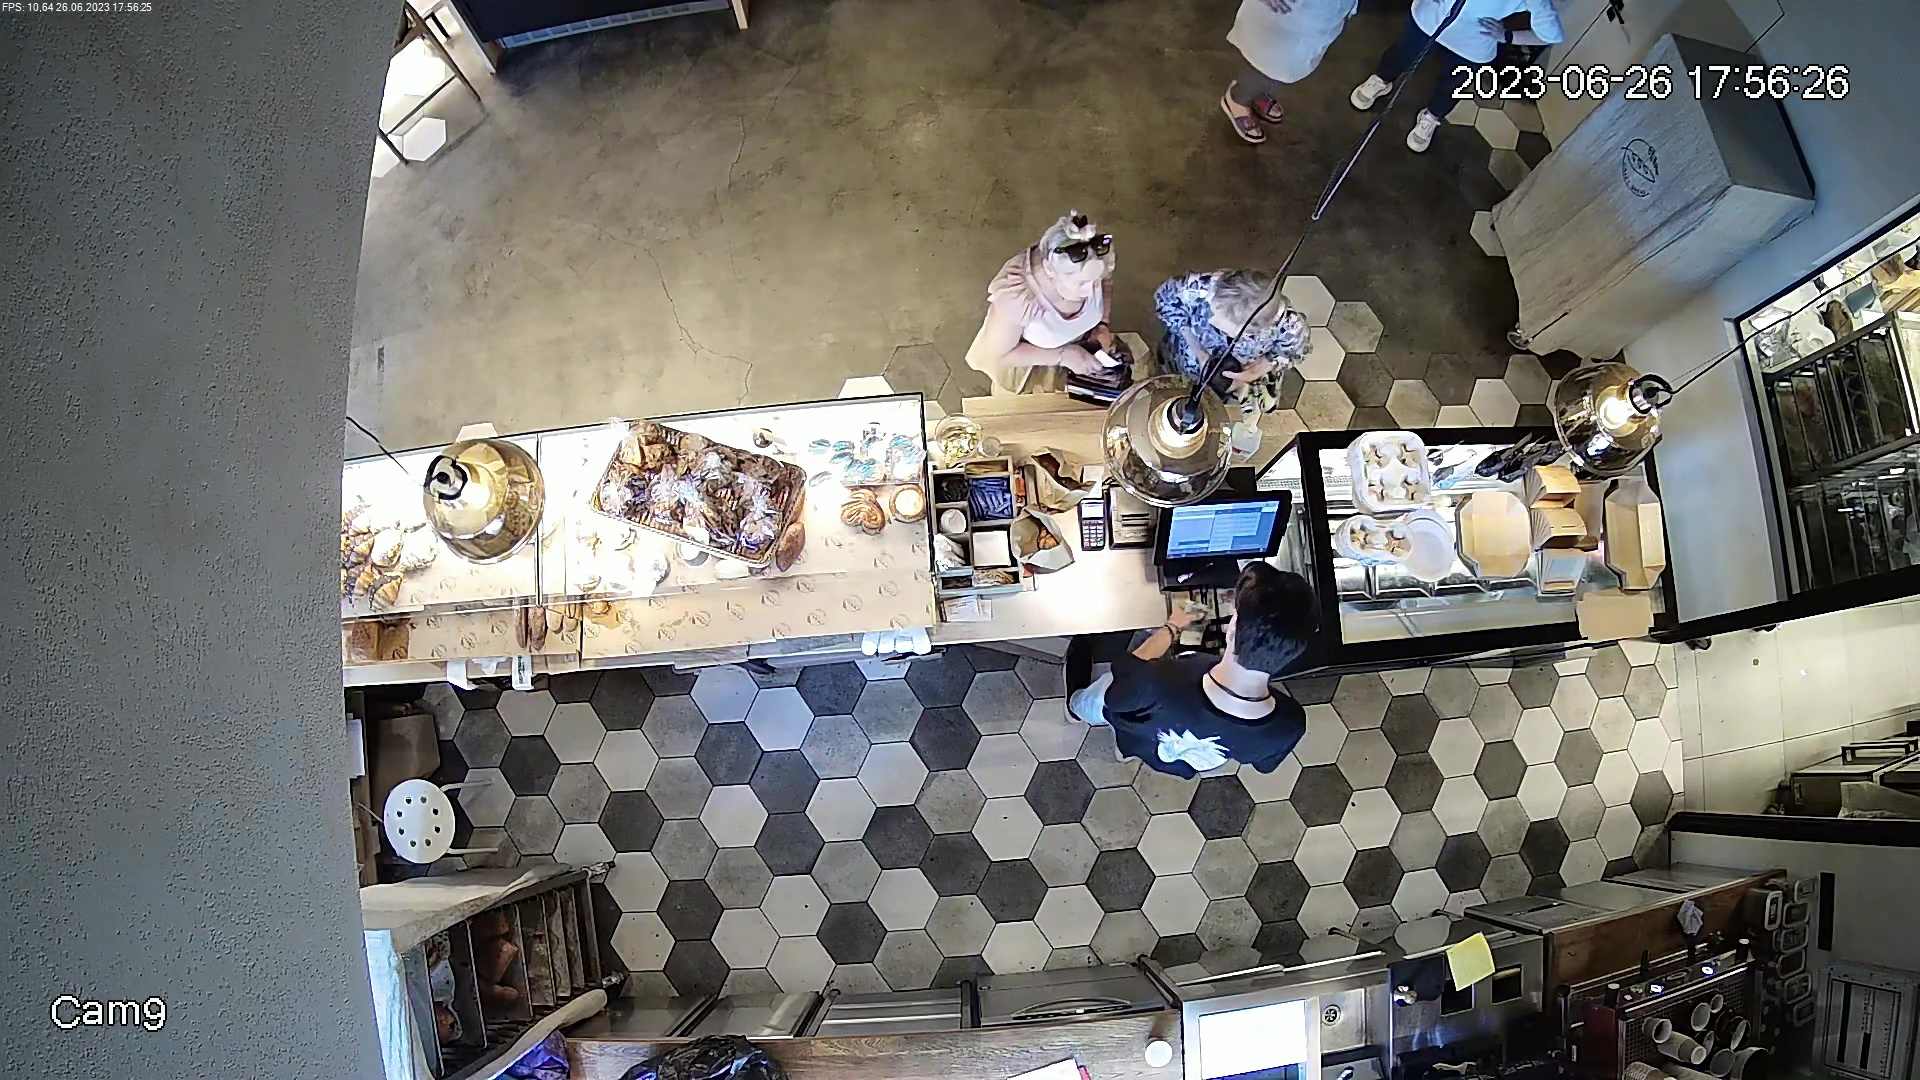openedcash: (1152, 495, 1299, 657)
pack: (1006, 508, 1084, 582), (1022, 438, 1088, 509)
person: (959, 200, 1140, 402), (1152, 265, 1317, 423)
